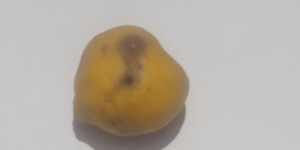BAD: (72, 24, 191, 140)
